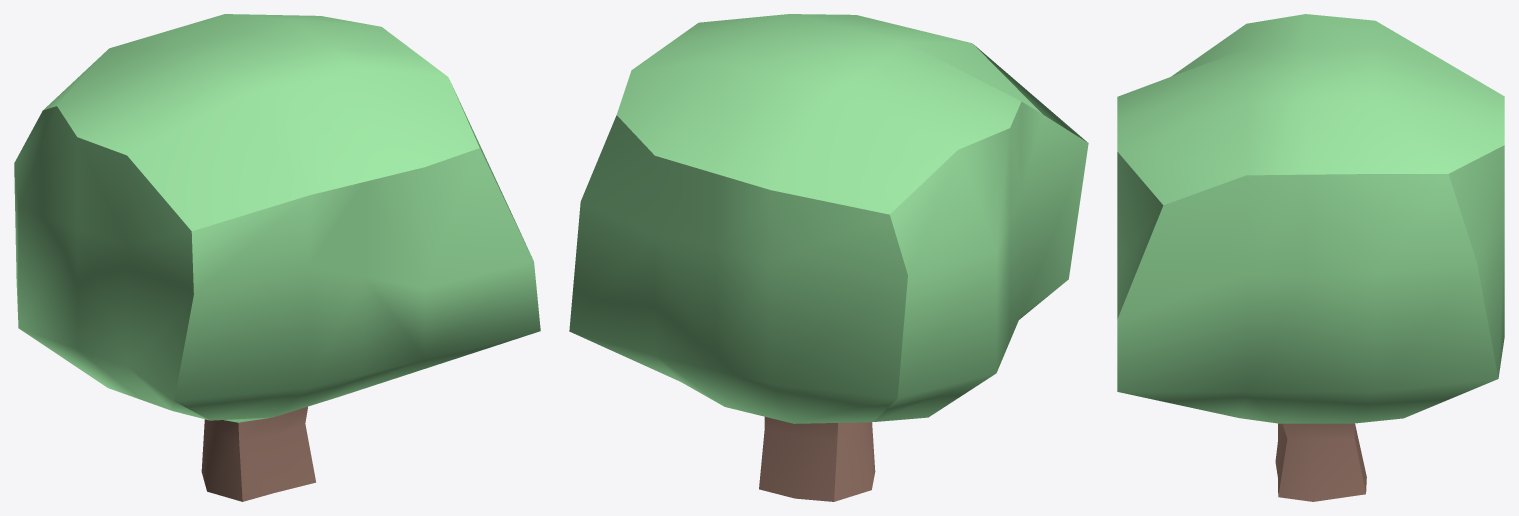
The model's file is bush.fbx.
The picture shows the model from 3 angles, left to right: view 1: azimuth 30°, elevation 25°; view 2: azimuth 150°, elevation 25°; view 3: azimuth 270°, elevation 25°; orthographic projection. The views are drawn at different scales.
Parts seen in each view (by area): view 1: bush; view 2: bush; view 3: bush.
Boxes of the visible parts, x1,y1,x2,y2 form: bush: [14, 14, 540, 501]; bush: [569, 14, 1088, 501]; bush: [1117, 14, 1504, 501].
Size of the model in its own units: 9.94 by 10.26 by 8.87.
